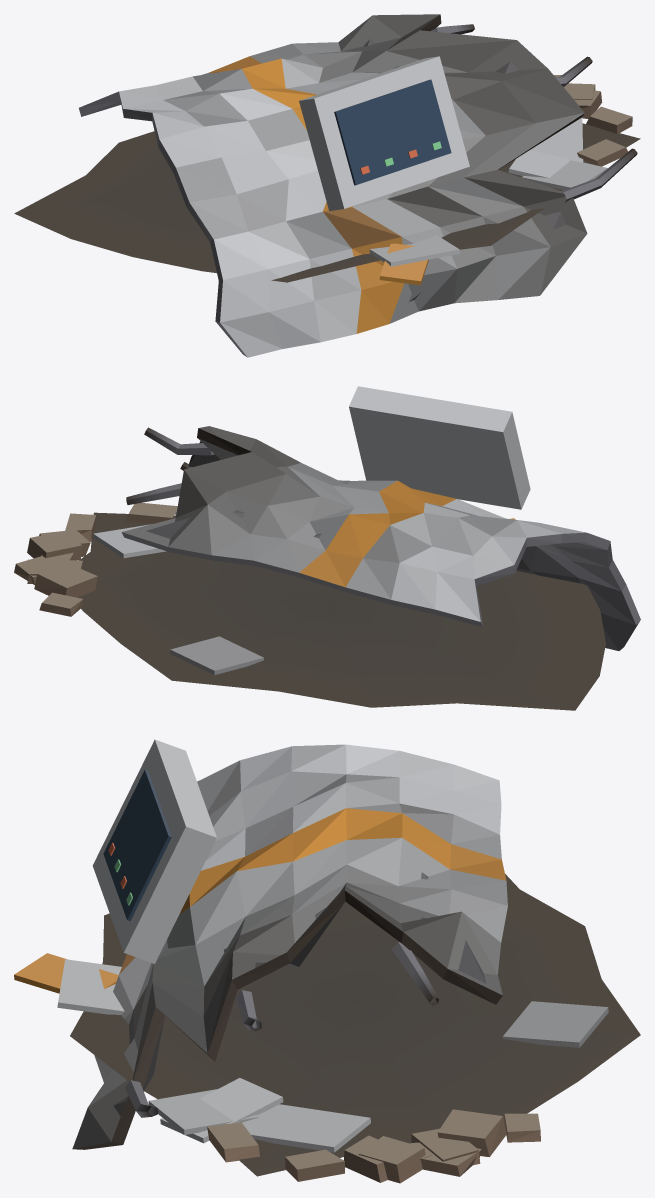
The model's file is wreck_board_a.glb.
3 renders of one model, top to bottom at view 1: azimuth 30°, elevation 25°; view 2: azimuth 150°, elevation 25°; view 3: azimuth 270°, elevation 25°, orthographic. The views are drawn at different scales.
Parts seen in each view (by area): view 1: wreck_board_a; view 2: wreck_board_a; view 3: wreck_board_a.
Part boxes in pixels (<box>): wreck_board_a: <box>14,14,640,357</box>; wreck_board_a: <box>14,386,640,710</box>; wreck_board_a: <box>14,739,640,1183</box>.
Size of the model in its own units: 3.36 by 1.29 by 2.53.
